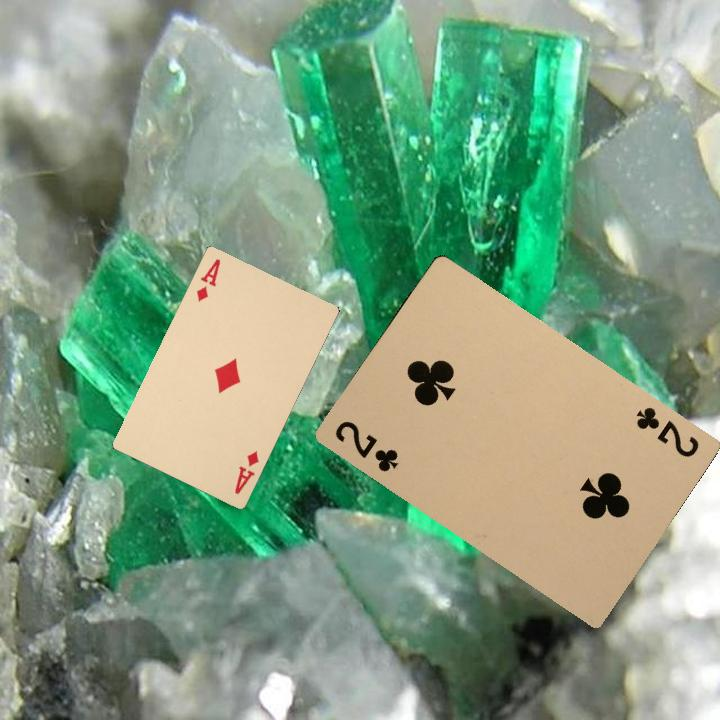2c: (330, 416, 401, 475), (632, 402, 702, 460)
Ad: (230, 447, 261, 497), (192, 254, 223, 304)
